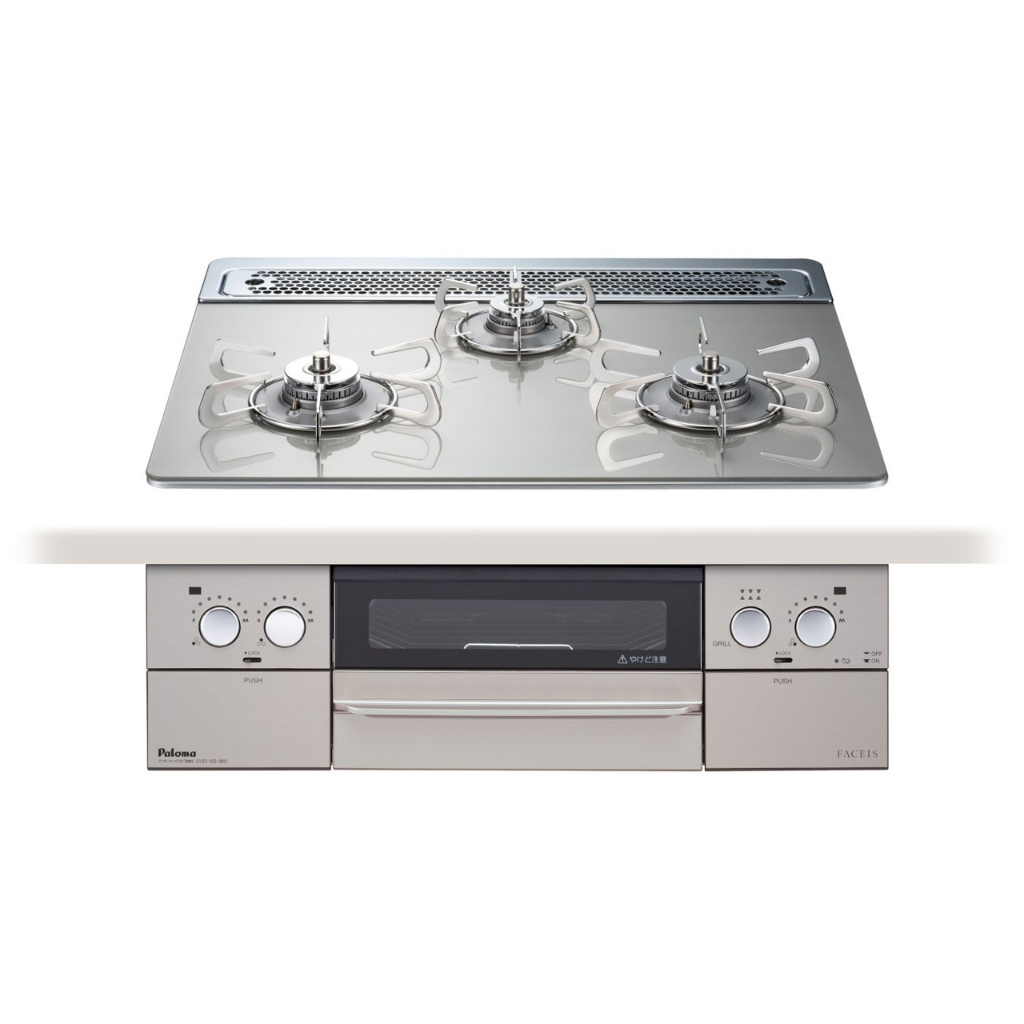gasoven: (143, 246, 894, 499)
